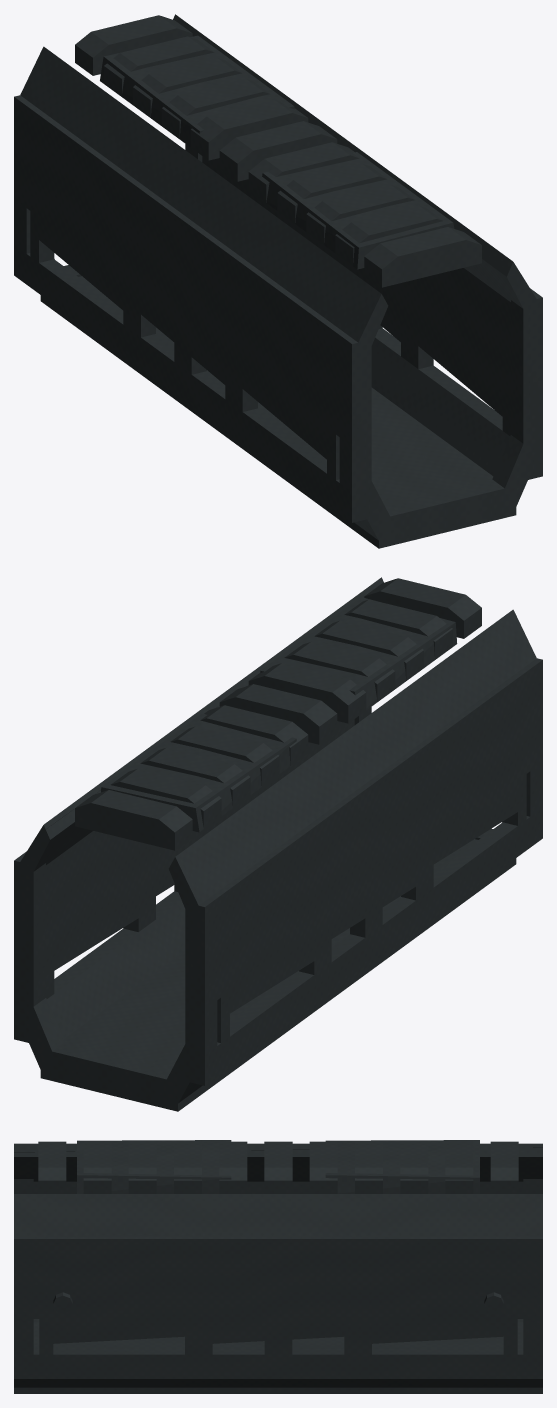
The model's file is hk416_short.glb.
3 views of the same model, one above another, from view 1: azimuth 30°, elevation 25°; view 2: azimuth 150°, elevation 25°; view 3: azimuth 270°, elevation 25° (orthographic). The views are drawn at different scales.
Visible parts, largest first — view 1: handguard__hk416_short_LOD0_RAID_Secondary_Original_steel, handguard__hk416_short_LOD1_RAID_Secondary_Original_steel; view 2: handguard__hk416_short_LOD0_RAID_Secondary_Original_steel, handguard__hk416_short_LOD1_RAID_Secondary_Original_steel; view 3: handguard__hk416_short_LOD0_RAID_Secondary_Original_steel, handguard__hk416_short_LOD1_RAID_Secondary_Original_steel.
Part boxes in pixels (<box>): handguard__hk416_short_LOD0_RAID_Secondary_Original_steel: <box>14,14,542,548</box>; handguard__hk416_short_LOD1_RAID_Secondary_Original_steel: <box>14,19,542,547</box>; handguard__hk416_short_LOD0_RAID_Secondary_Original_steel: <box>14,577,542,1111</box>; handguard__hk416_short_LOD1_RAID_Secondary_Original_steel: <box>14,597,539,1111</box>; handguard__hk416_short_LOD0_RAID_Secondary_Original_steel: <box>14,1141,542,1393</box>; handguard__hk416_short_LOD1_RAID_Secondary_Original_steel: <box>14,1140,542,1387</box>.
Bounding box in the file's own units: 0.092 × 0.12 × 0.27.
Materials: 1 (1 with a texture image).
